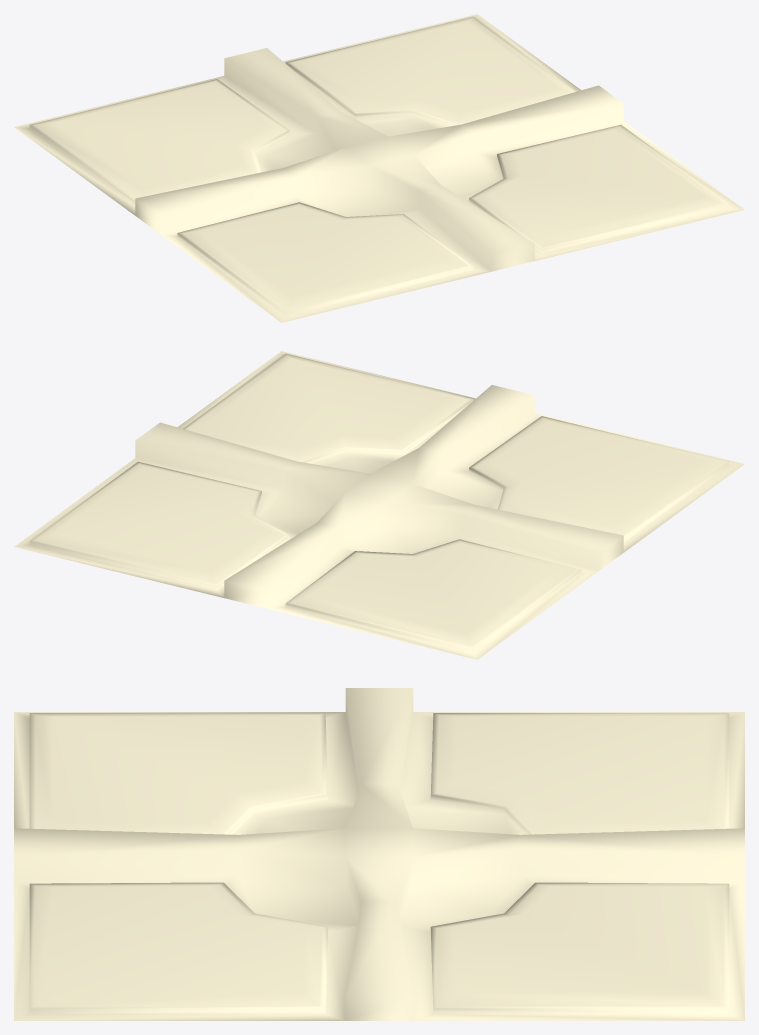
The model's file is df577b65-7f5b-4a85-895d-f599cca3f091.glb.
3 views of the same model, one above another, from view 1: azimuth 30°, elevation 25°; view 2: azimuth 150°, elevation 25°; view 3: azimuth 270°, elevation 25° (orthographic). The views are drawn at different scales.
Visible parts, largest first — view 1: ArtDecoFloorTile.003; view 2: ArtDecoFloorTile.003; view 3: ArtDecoFloorTile.003.
Boxes of the visible parts, <box> form: ArtDecoFloorTile.003: <box>14,14,744,322</box>; ArtDecoFloorTile.003: <box>14,351,744,659</box>; ArtDecoFloorTile.003: <box>14,688,744,1020</box>.
Size of what is drawn, in the model's own units: 6.28 by 0.2631 by 6.28.
1 material, 1 textured.
